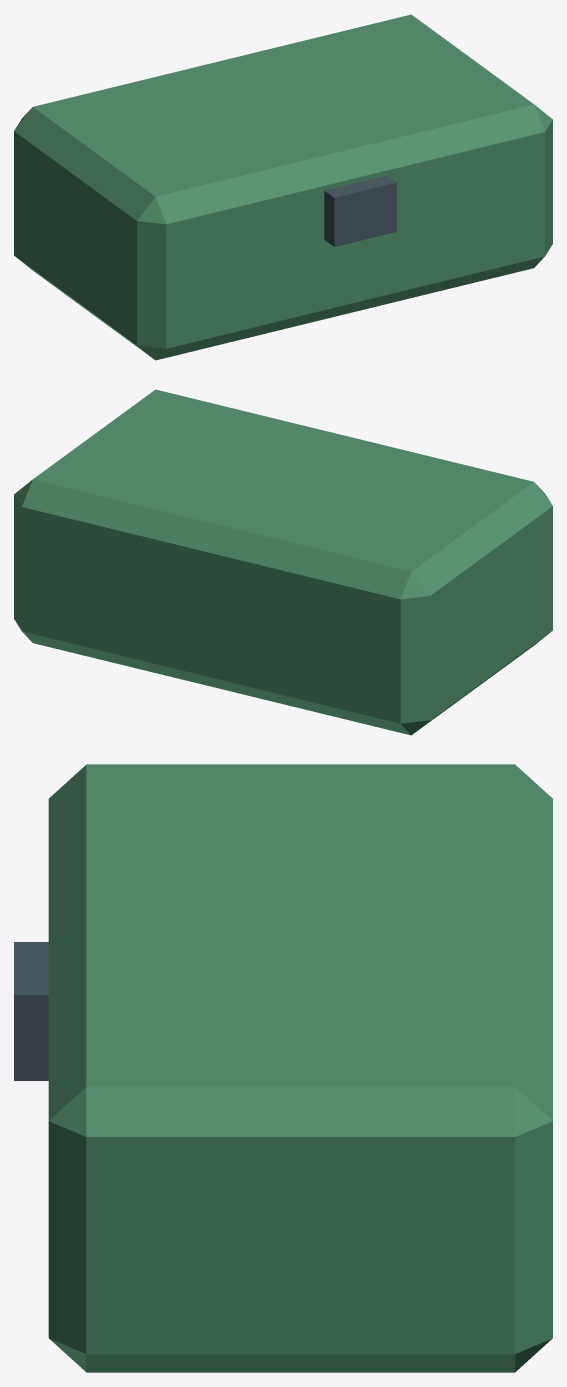
File: set_ceramic_bowl.glb
The picture shows the model from 3 angles, top to bottom: view 1: azimuth 30°, elevation 25°; view 2: azimuth 150°, elevation 25°; view 3: azimuth 270°, elevation 25°; orthographic projection. The views are drawn at different scales.
Visible parts, largest first — view 1: set_ceramic_bowl; view 2: set_ceramic_bowl; view 3: set_ceramic_bowl.
Boxes of the visible parts, box(x1,y1,x2,y2) form: set_ceramic_bowl: box(14, 14, 552, 360); set_ceramic_bowl: box(14, 389, 552, 735); set_ceramic_bowl: box(14, 764, 552, 1372).
Bounding box in the file's own units: 0.266 × 0.1 × 0.171.
